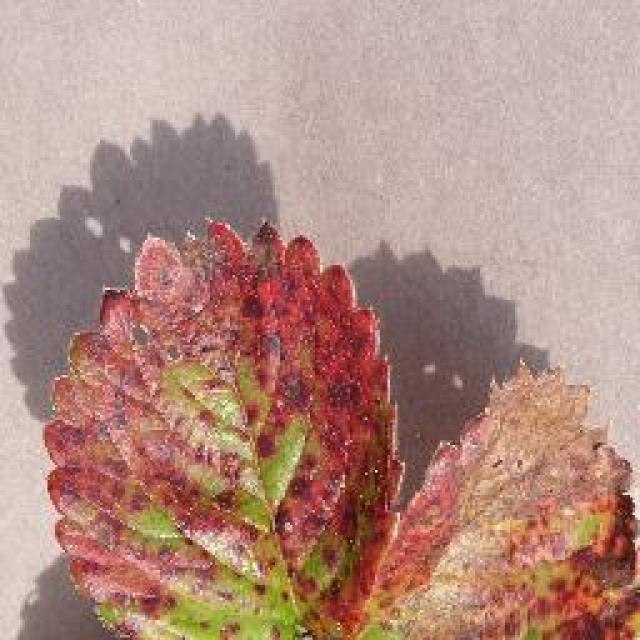Strawberry leaf scorch: (26, 252, 586, 582)
